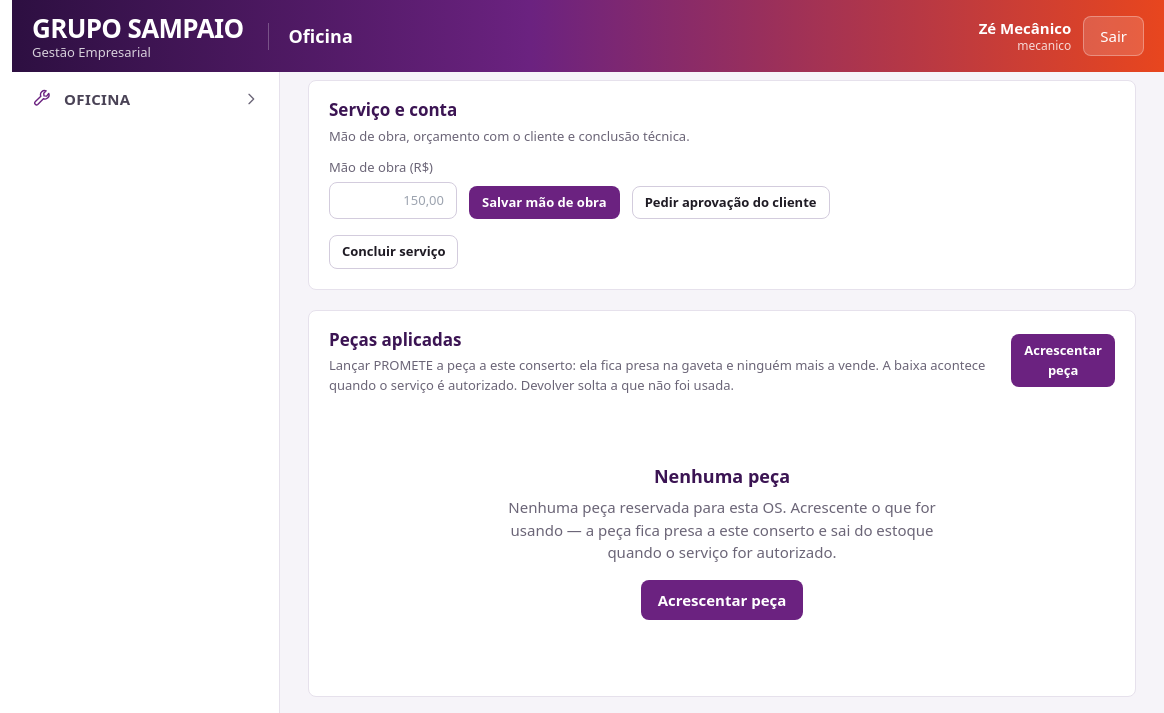
it: acrescentar peça à OS › a busca por nome estreita a gaveta, e o que não bate diz por quê
(page scrolled)
Step 1. Click the button "Acrescentar peça" in the row of "Peças aplicadas" → [1063, 361], box left=1011, top=334, right=1115, bottom=387
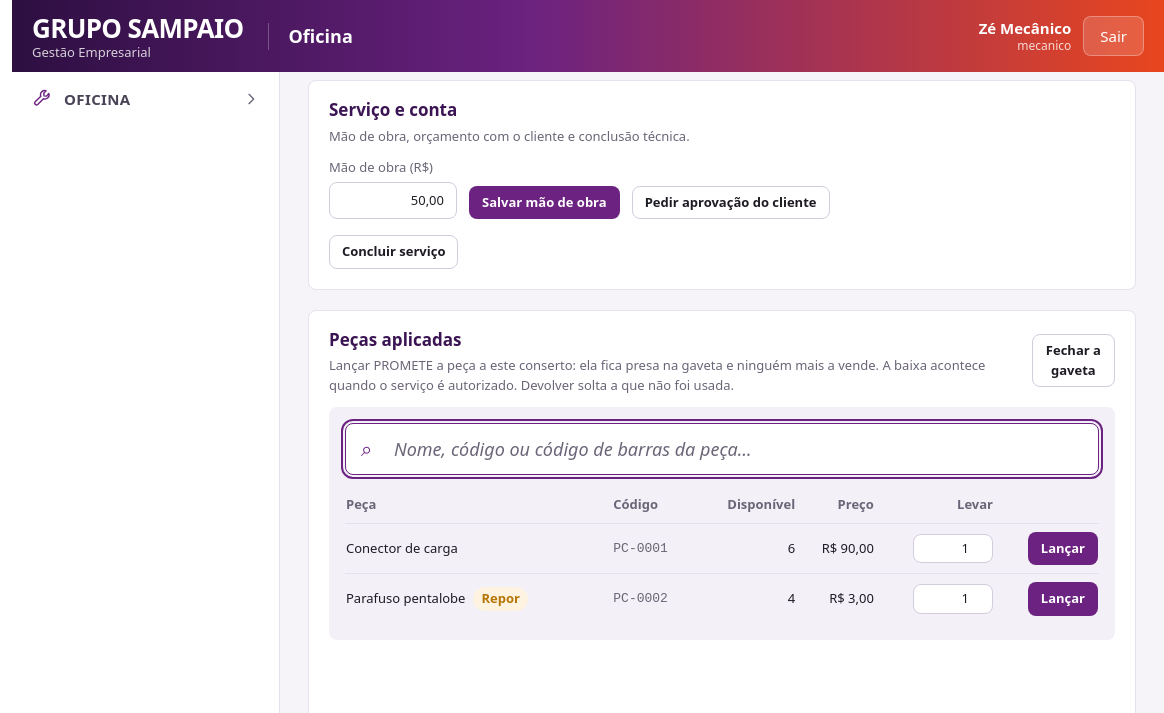
Step 2. Type "martelo" into the field with placeholder "Nome, código ou código de barras da peça…" → [722, 449], box left=345, top=423, right=1099, bottom=475
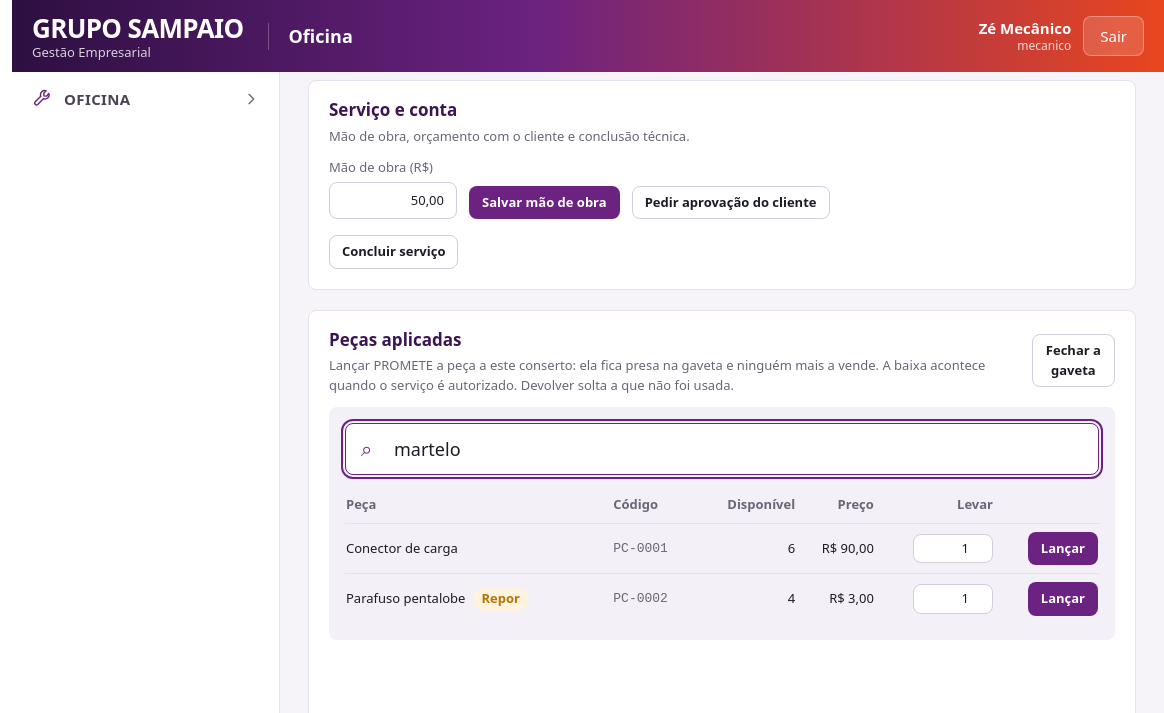
Step 3. Press Enter in the field with placeholder "Nome, código ou código de barras da peça…", box left=345, top=423, right=1099, bottom=475
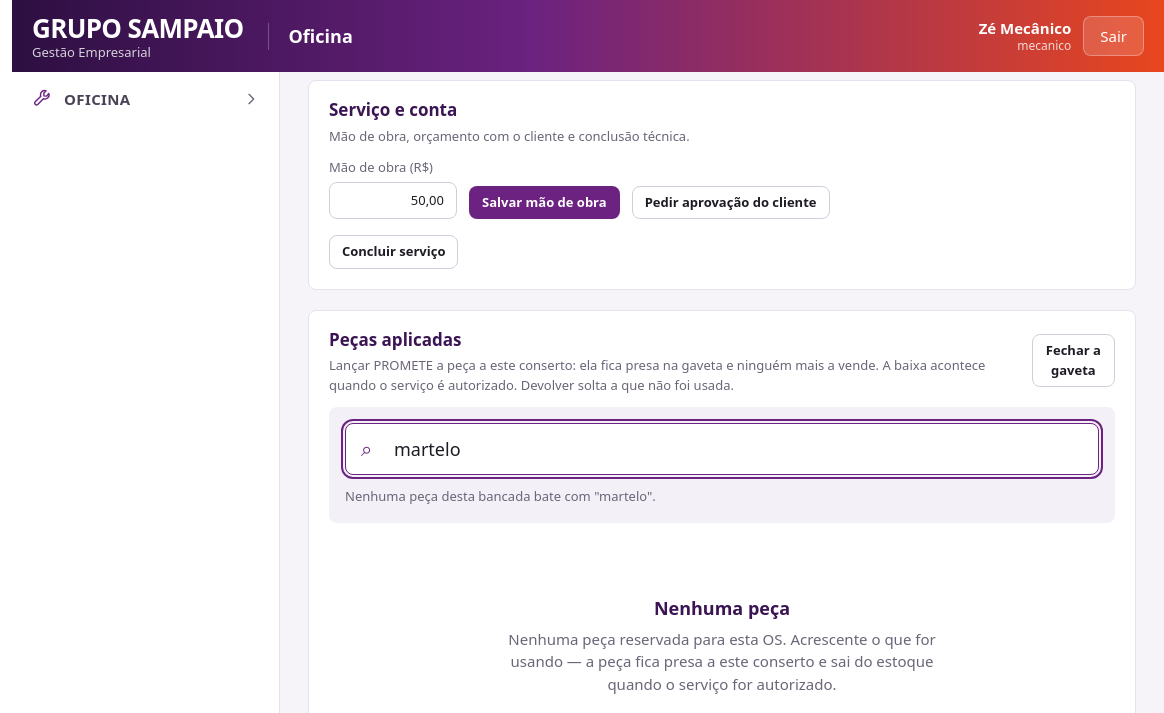
Expected: the text "Nenhuma peça desta bancada bate com \"martelo\"." is shown, left=345, top=487, right=656, bottom=505
